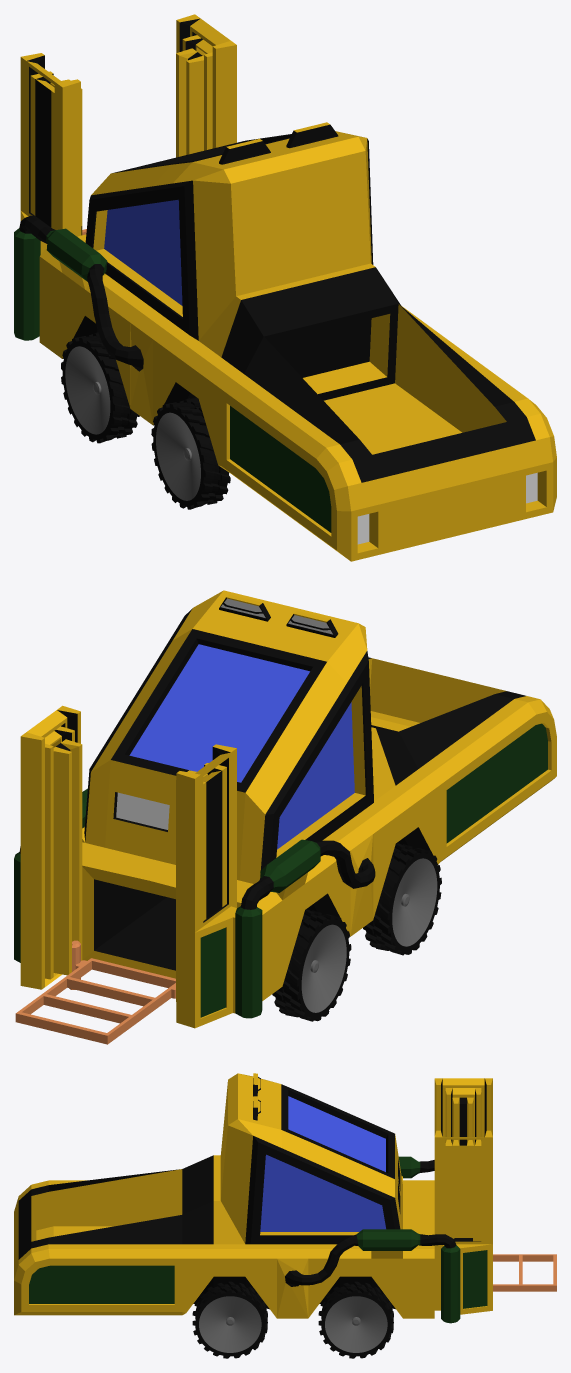
Rendered from Ammo Car v.1.0.fbx.
3 views of the same model, one above another, from view 1: azimuth 30°, elevation 25°; view 2: azimuth 150°, elevation 25°; view 3: azimuth 270°, elevation 25° (orthographic). The views are drawn at different scales.
Visible parts, largest first — view 1: AMMO CAR, wheel.004, Cube.006, Cube.007; view 2: AMMO CAR, wheel.004, Cube.007, Cube.006, Cube.005; view 3: AMMO CAR, wheel.004, Cube.006, Cube.007, Cube.005.
Part boxes in pixels (left/top/right/bottom): AMMO CAR: left=14, top=14, right=556, bottom=561; wheel.004: left=61, top=332, right=230, bottom=509; Cube.006: left=30, top=35, right=212, bottom=229; Cube.007: left=50, top=48, right=203, bottom=235; AMMO CAR: left=14, top=590, right=556, bottom=1028; wheel.004: left=272, top=843, right=441, bottom=1021; Cube.007: left=53, top=739, right=207, bottom=1001; Cube.006: left=45, top=726, right=226, bottom=979; Cube.005: left=15, top=940, right=175, bottom=1044; AMMO CAR: left=14, top=1073, right=492, bottom=1323; wheel.004: left=192, top=1281, right=393, bottom=1358; Cube.006: left=445, top=1088, right=481, bottom=1241; Cube.007: left=452, top=1097, right=473, bottom=1237; Cube.005: left=493, top=1254, right=556, bottom=1291.
Bounding box in the file's own units: 689 × 824 × 1779.
